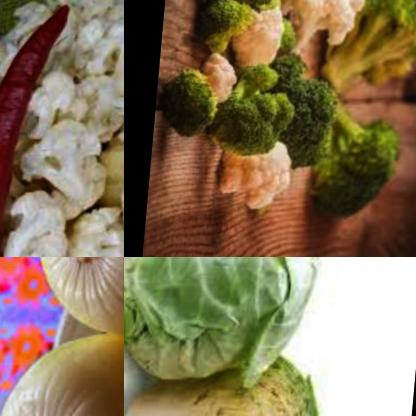broccoli: (322, 101, 414, 224), (325, 0, 416, 95), (273, 68, 350, 175), (217, 67, 303, 162), (166, 68, 234, 143), (192, 0, 263, 57)
brus capusta: (124, 257, 343, 373), (124, 350, 331, 416)
cayliflower: (0, 0, 124, 257), (212, 135, 301, 206), (282, 0, 370, 65), (236, 9, 294, 69), (200, 50, 246, 109)
hot pepper: (0, 0, 72, 257)
onion: (0, 336, 124, 416), (27, 257, 124, 344)
